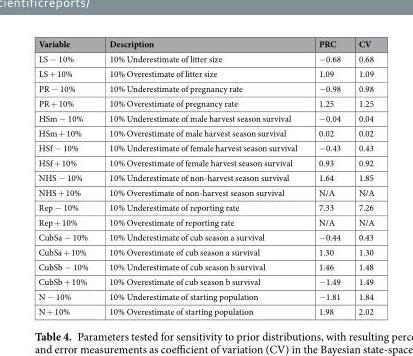table: (37, 37, 373, 317)
table column: (98, 37, 307, 317), (37, 37, 98, 317), (307, 37, 348, 317), (348, 37, 373, 317)
table column header: (37, 37, 373, 50)
table row: (37, 50, 373, 65), (37, 65, 373, 80), (37, 80, 373, 95), (37, 95, 373, 110), (37, 110, 373, 125), (37, 125, 373, 140), (37, 154, 373, 169), (37, 169, 373, 184), (37, 184, 373, 199), (37, 199, 373, 214), (37, 214, 373, 229), (37, 229, 373, 244), (37, 244, 373, 259), (37, 273, 373, 288), (37, 288, 373, 303), (37, 140, 373, 154), (37, 259, 373, 273), (37, 303, 373, 317), (37, 37, 373, 50)
